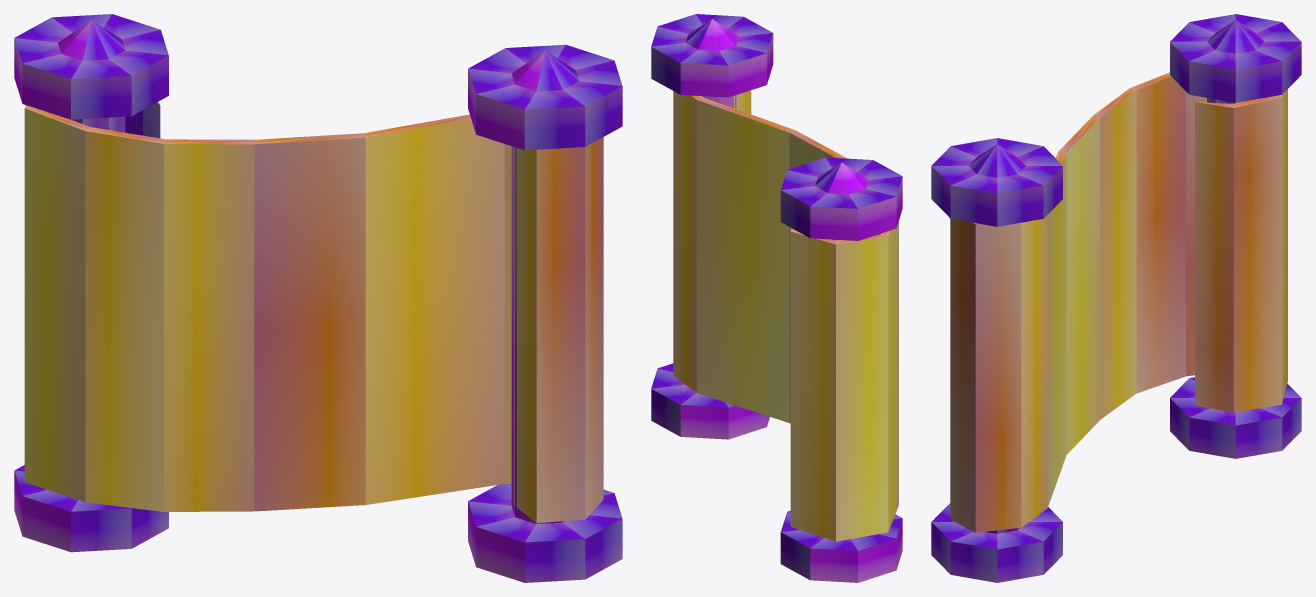
File: message_open.fbx
3 views of the same model, side by side, from view 1: azimuth 30°, elevation 25°; view 2: azimuth 150°, elevation 25°; view 3: azimuth 270°, elevation 25° (orthographic). The views are drawn at different scales.
Visible parts, largest first — view 1: message_open; view 2: message_open; view 3: message_open.
Part boxes in pixels (left/top/right/bottom): message_open: left=14, top=14, right=622, bottom=582; message_open: left=651, top=14, right=902, bottom=582; message_open: left=931, top=14, right=1301, bottom=582.
Size of the model in its own units: 100 by 113 by 87.36.
